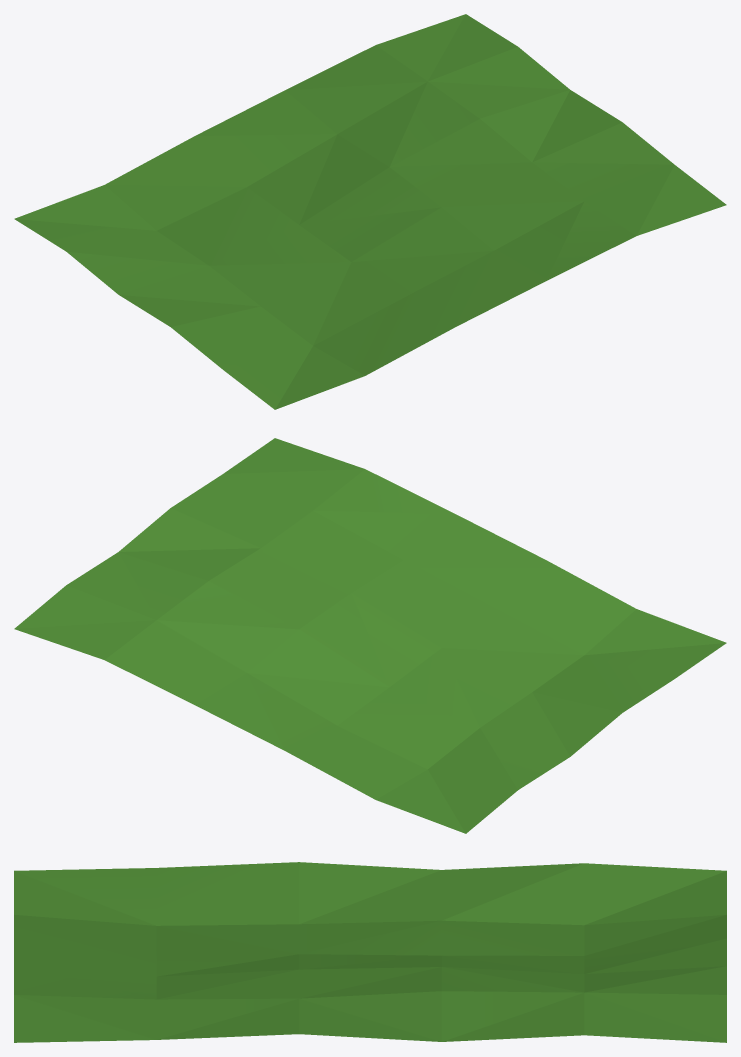
Rendered from terrains_terrain-plane-slope4.fbx.
3 views of the same model, one above another, from view 1: azimuth 30°, elevation 25°; view 2: azimuth 150°, elevation 25°; view 3: azimuth 270°, elevation 25° (orthographic). The views are drawn at different scales.
Visible parts, largest first — view 1: terrains_terrain_plane_slope4; view 2: terrains_terrain_plane_slope4; view 3: terrains_terrain_plane_slope4.
Part boxes in pixels (x1,y1,x2,y2): terrains_terrain_plane_slope4: (14,14,726,409); terrains_terrain_plane_slope4: (14,438,726,833); terrains_terrain_plane_slope4: (14,862,726,1042).
Bounding box in the file's own units: 200 × 42.69 × 200.
